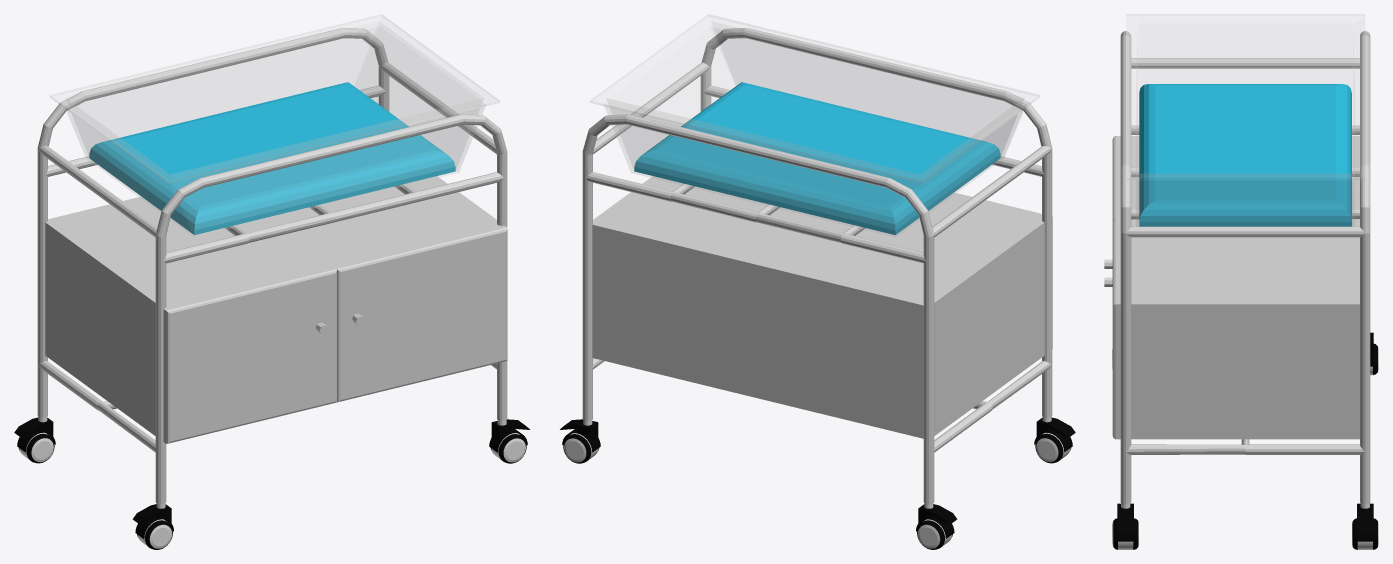
The picture shows the model from 3 angles, left to right: view 1: azimuth 30°, elevation 25°; view 2: azimuth 150°, elevation 25°; view 3: azimuth 270°, elevation 25°; orthographic projection.
Visible parts, largest first — view 1: CC-1; view 2: CC-1; view 3: CC-1.
Part boxes in pixels (x1,y1,x2,y2): CC-1: (14, 14, 529, 549); CC-1: (560, 14, 1075, 549); CC-1: (1104, 14, 1378, 549).
Bounding box in the file's own units: 85.77 × 76 × 51.57.
